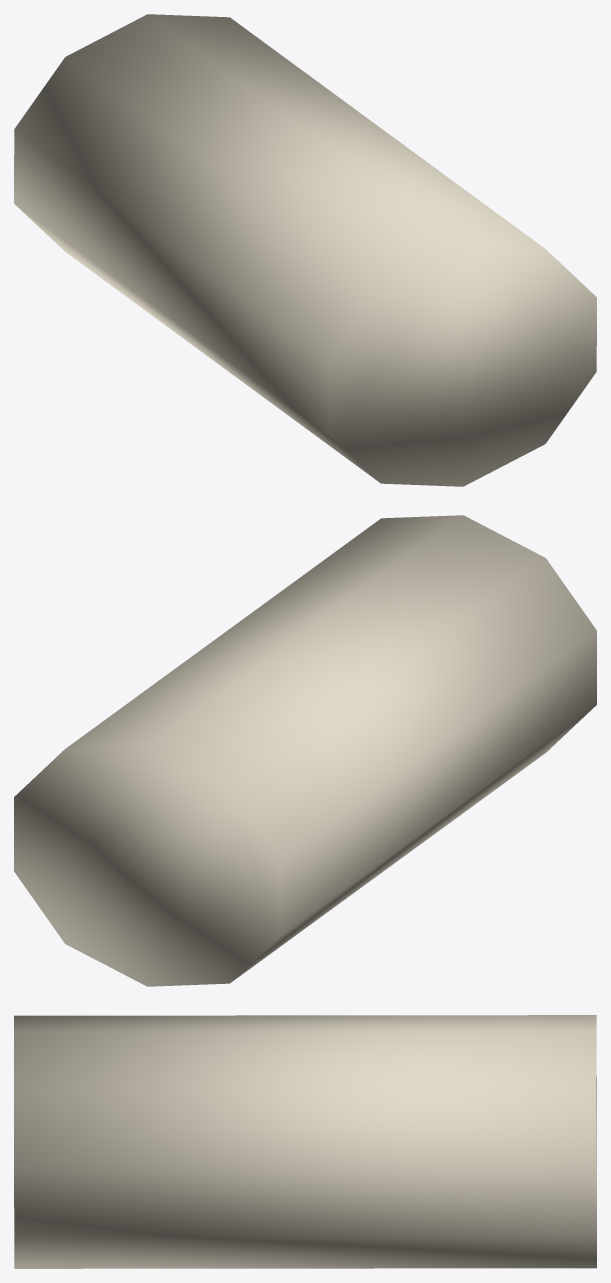
The model's file is SM_W02_Climber_LowerArm_R.fbx.
3 views of the same model, one above another, from view 1: azimuth 30°, elevation 25°; view 2: azimuth 150°, elevation 25°; view 3: azimuth 270°, elevation 25° (orthographic). The views are drawn at different scales.
Parts seen in each view (by area): view 1: SM_W02_Climber_LowerArm_R; view 2: SM_W02_Climber_LowerArm_R; view 3: SM_W02_Climber_LowerArm_R.
Part boxes in pixels (x1=…): SM_W02_Climber_LowerArm_R: x1=14, y1=14, x2=596, y2=486; SM_W02_Climber_LowerArm_R: x1=14, y1=515, x2=596, y2=986; SM_W02_Climber_LowerArm_R: x1=14, y1=1015, x2=596, y2=1268.
Bounding box in the file's own units: 0.2189 × 0.4504 × 0.1892.
